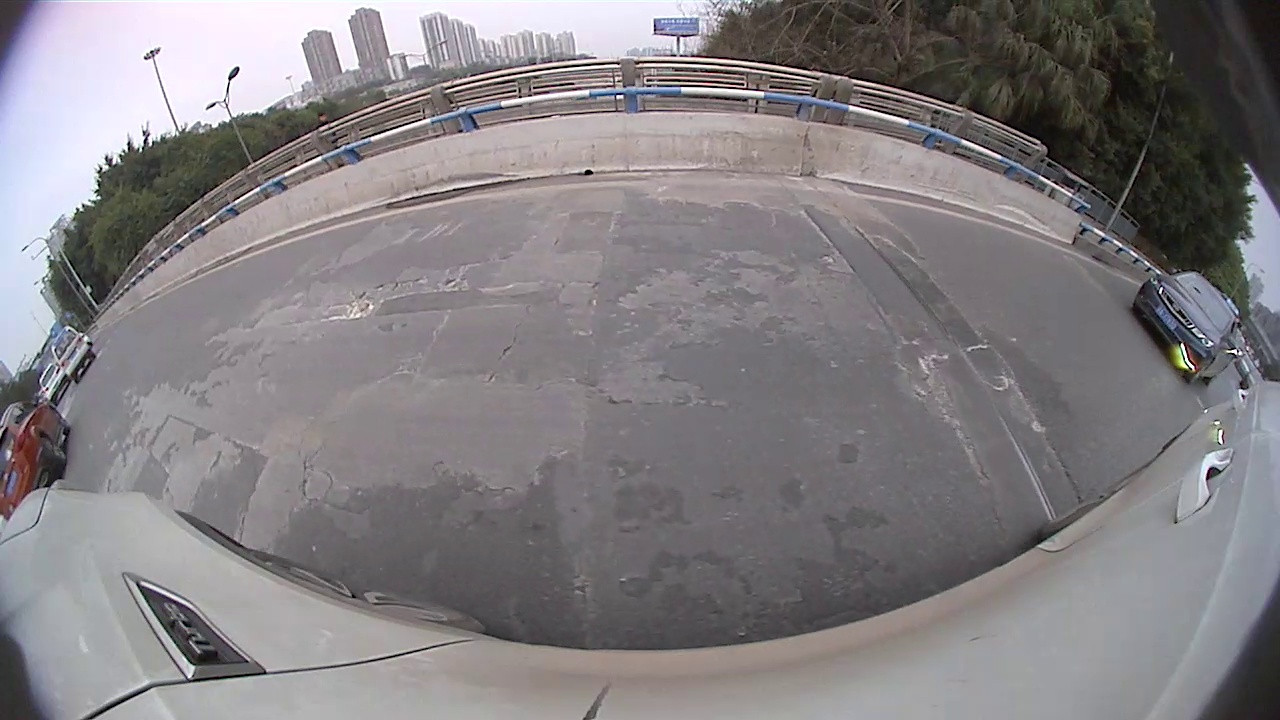car: (1130, 269, 1240, 387), (1, 397, 73, 523), (50, 325, 97, 384), (39, 361, 73, 407)
front: (1182, 359, 1209, 385), (45, 404, 71, 431), (1129, 299, 1146, 319)
rear: (40, 433, 71, 469), (1203, 365, 1229, 386)
